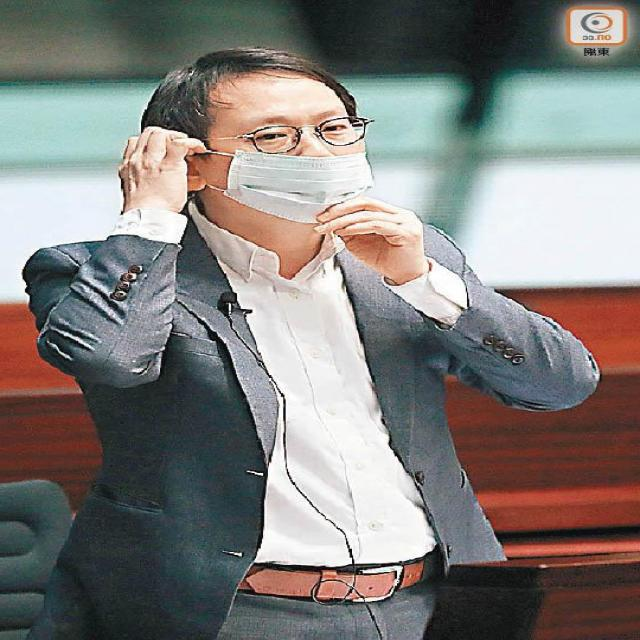face: (192, 71, 372, 224)
